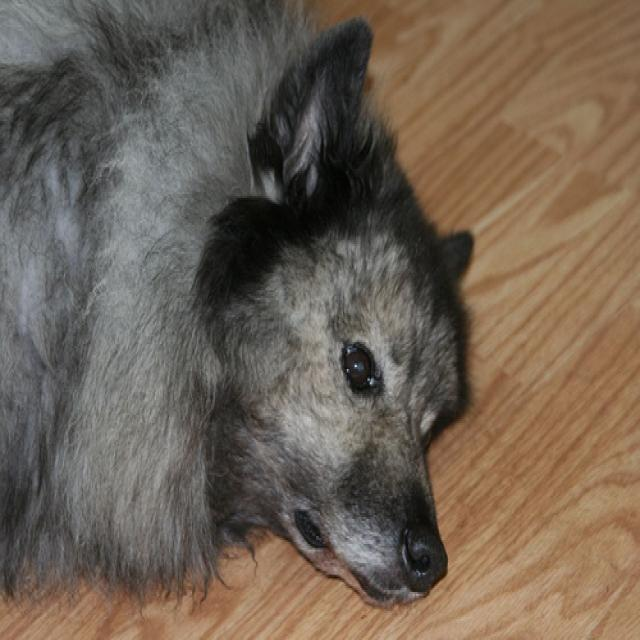dog: (212, 18, 472, 604)
